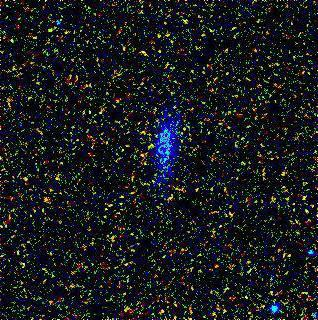star: (136, 130, 166, 160)
